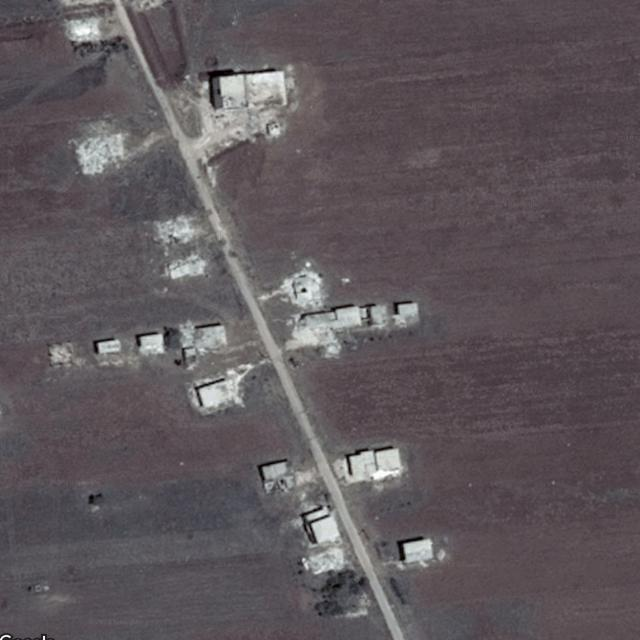damaged_building: (294, 303, 361, 358), (72, 126, 126, 174), (173, 317, 229, 352), (270, 269, 322, 304), (62, 13, 113, 42), (154, 217, 202, 244), (163, 254, 206, 284)
